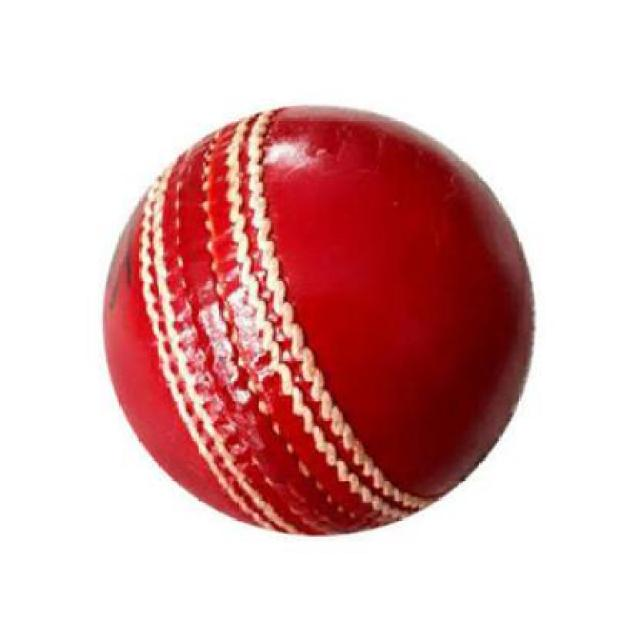ball: (49, 50, 576, 574)
